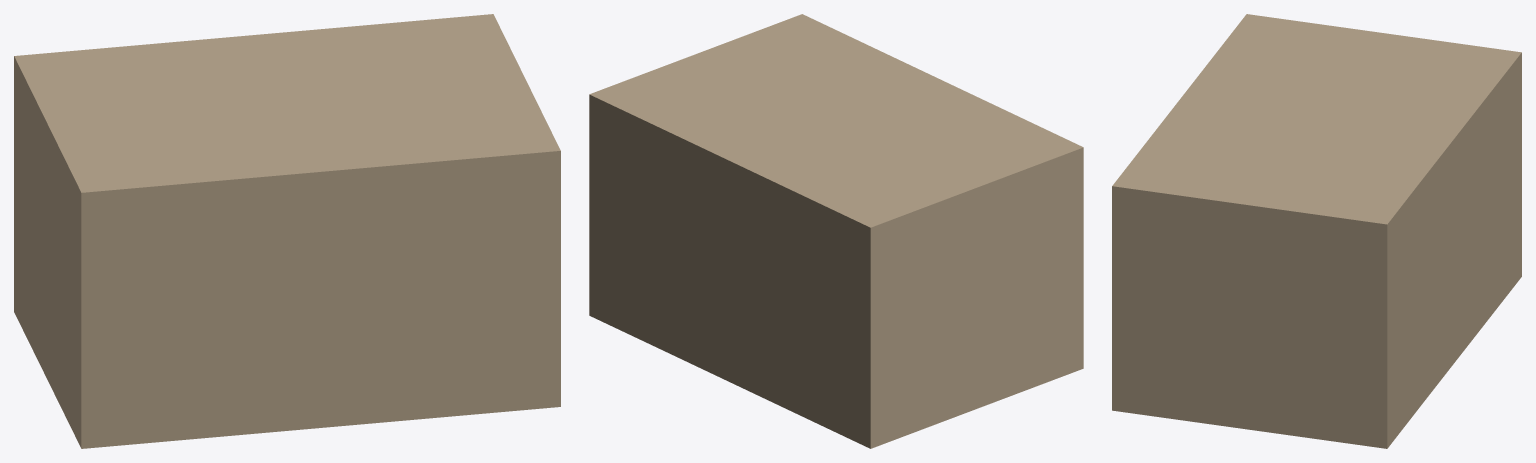
Rendered from bld_101524552.dae.
The picture shows the model from 3 angles, left to right: view 1: azimuth 30°, elevation 25°; view 2: azimuth 150°, elevation 25°; view 3: azimuth 270°, elevation 25°; orthographic projection. The views are drawn at different scales.
Visible parts, largest first — view 1: bld_101524552; view 2: bld_101524552; view 3: bld_101524552.
Part boxes in pixels (x1,y1,x2,y2): bld_101524552: (14, 14, 560, 448); bld_101524552: (589, 14, 1083, 448); bld_101524552: (1112, 14, 1521, 448).
Size of the model in its own units: 16.09 by 13.24 by 8.
